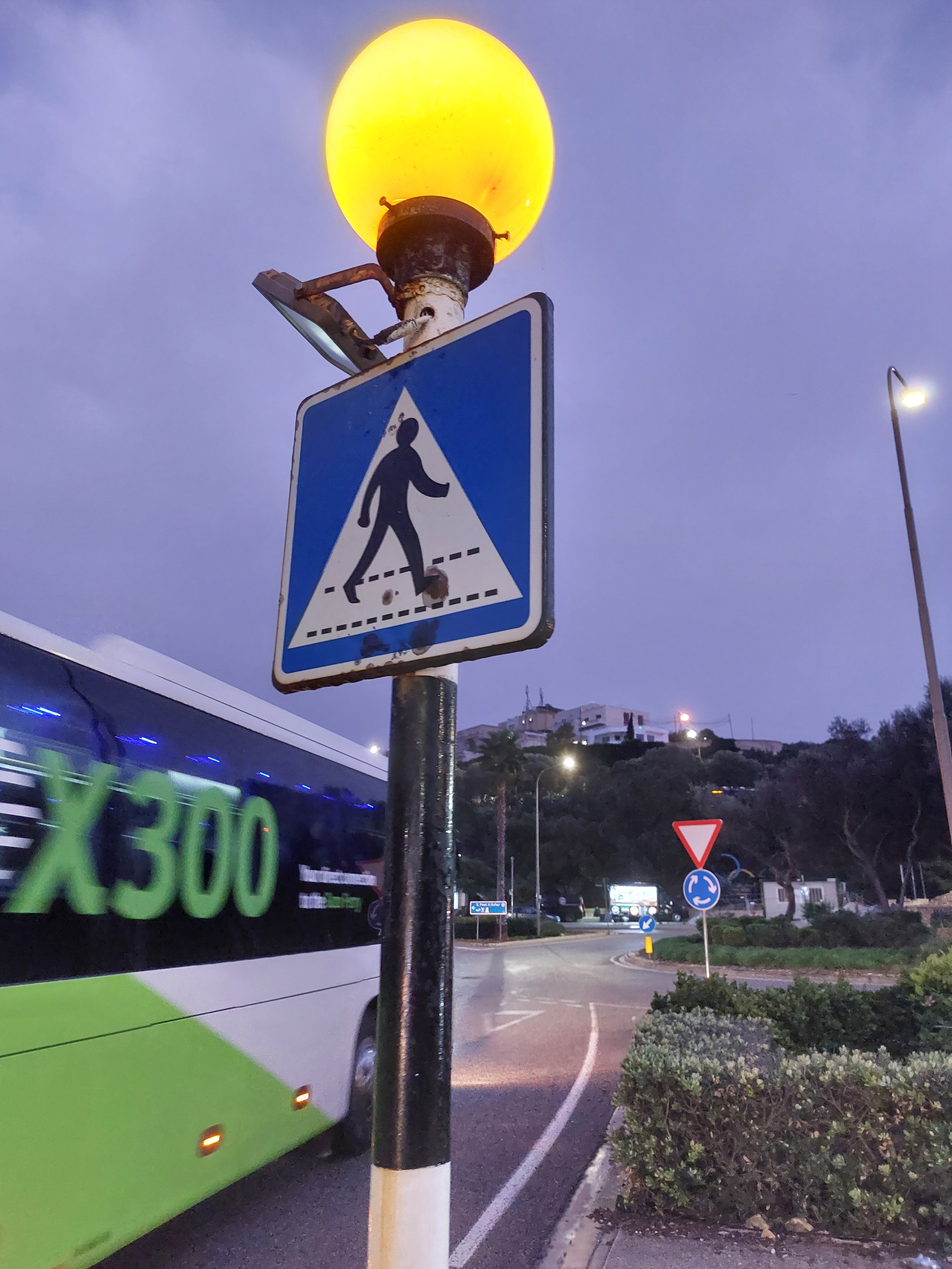Directional Sign: (470, 900, 507, 915), (639, 915, 655, 932)
Other-Unknown: (672, 819, 723, 869)
Pedestrian Crossing: (271, 290, 556, 695)
Roundabout Ahead: (682, 869, 720, 911)
